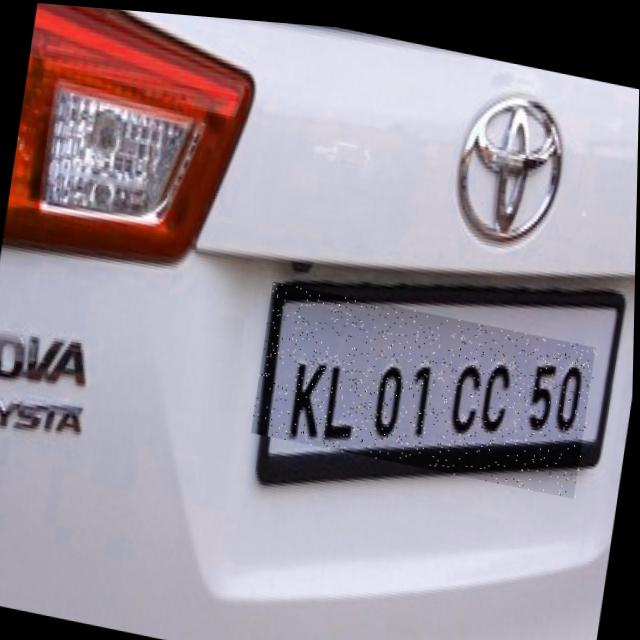license_plate: (252, 275, 599, 490)
